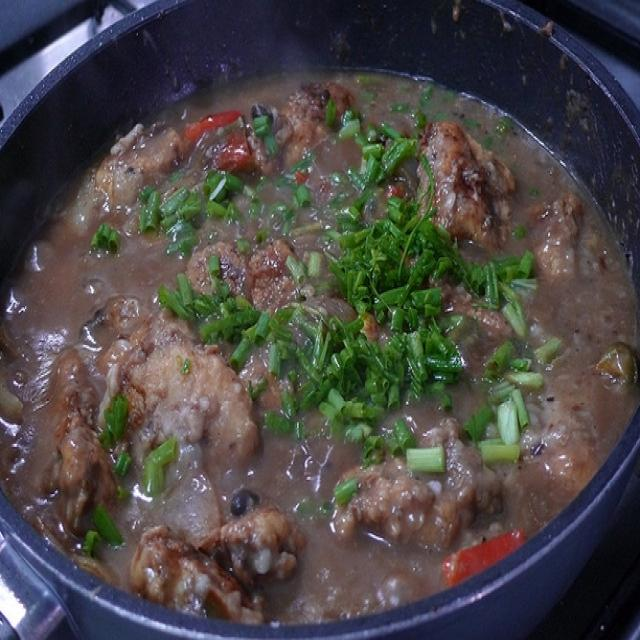牛肉菜式: (18, 16, 625, 607)
